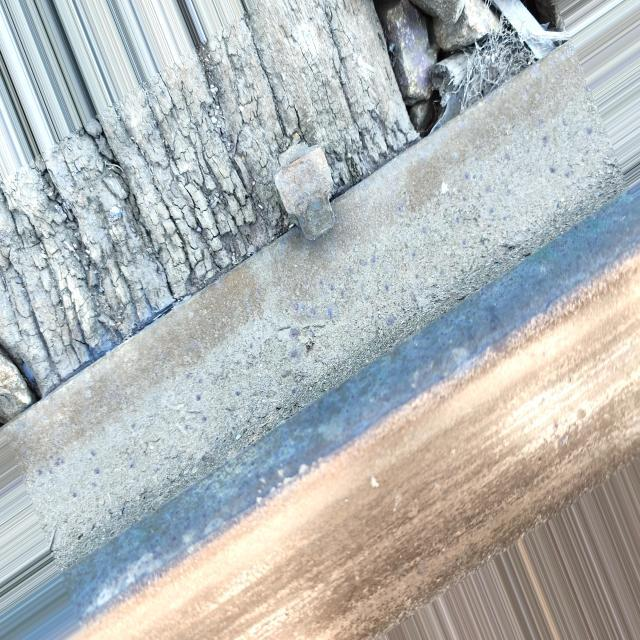Good Fasteners: (275, 146, 335, 240)
